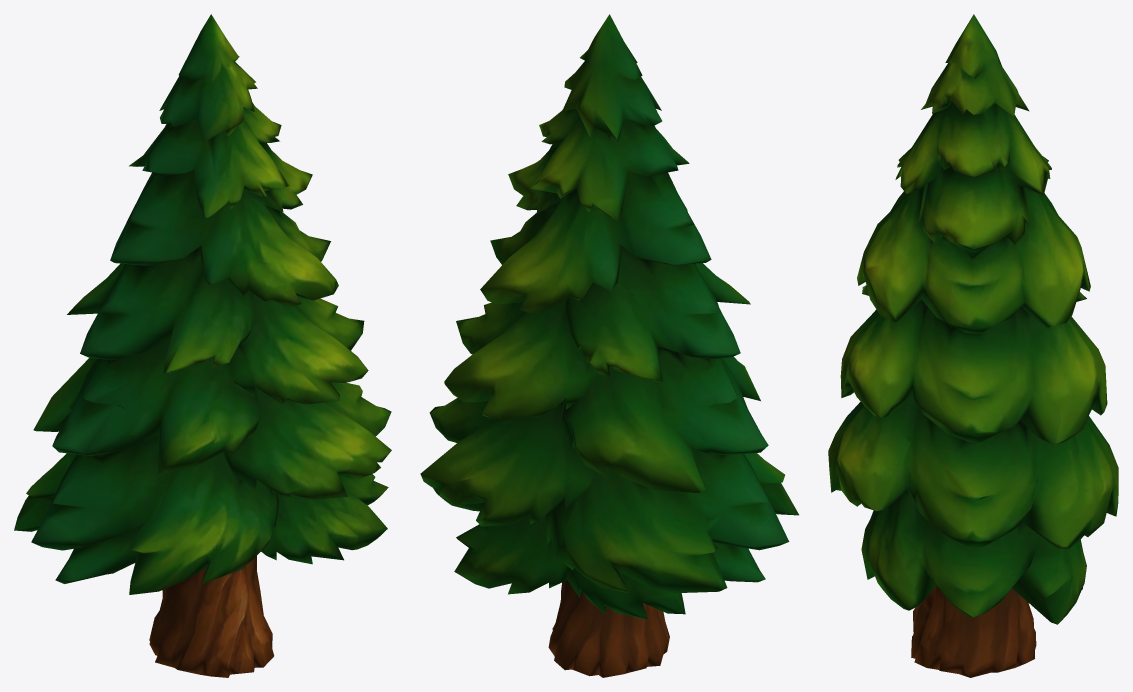
The model's file is pine.glb.
3 views of the same model, side by side, from view 1: azimuth 30°, elevation 25°; view 2: azimuth 150°, elevation 25°; view 3: azimuth 270°, elevation 25° (orthographic).
Visible parts, largest first — view 1: pine; view 2: pine; view 3: pine.
Boxes of the visible parts, x1,y1,x2,y2 form: pine: (14, 14, 391, 677); pine: (420, 14, 798, 677); pine: (828, 14, 1118, 677).
Size of the model in its own units: 8.8 by 15 by 6.19.
1 material, 1 textured.
